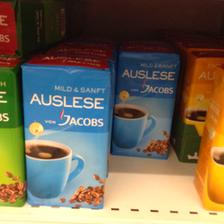Kaffee: (20, 52, 108, 208), (109, 46, 180, 160), (0, 0, 70, 50)
